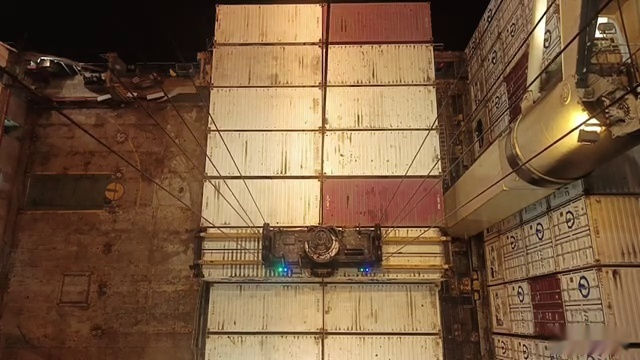container: (202, 224, 450, 281), (205, 128, 445, 179), (202, 282, 442, 333), (201, 177, 447, 222), (209, 83, 435, 130), (207, 332, 446, 360), (202, 333, 444, 358)
guide_mark: (111, 348, 544, 360), (66, 351, 560, 360)
spreader: (189, 222, 462, 281)
target_slot: (191, 222, 463, 283)
